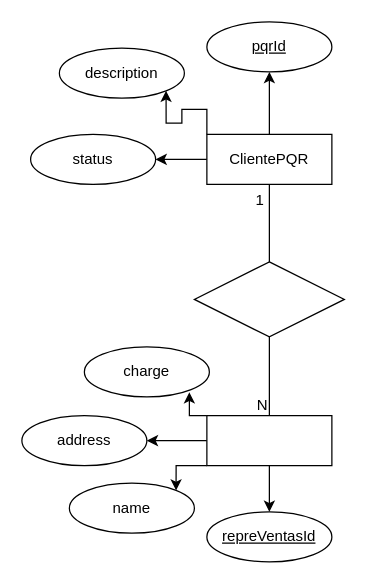
Some shapes in this 366 by 584 pixel diagram are drawn without their labels. The centre of each missing label's shape, as x and y in pixels:
Attend PQR: (x=268, y=299)
RepreVentas: (x=269, y=440)
